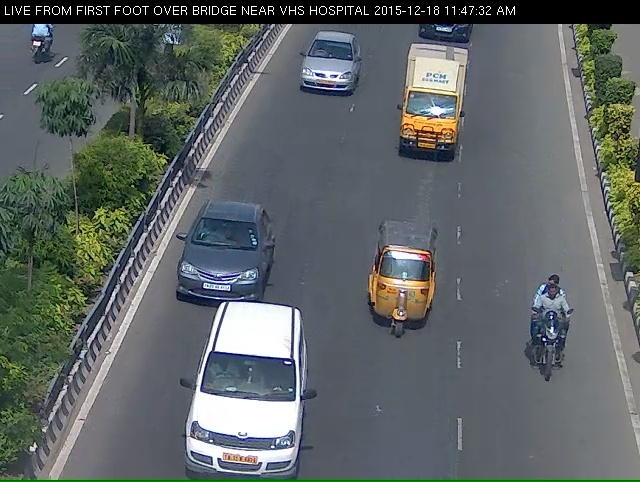Auto: (393, 48, 471, 179), (363, 231, 440, 358)
Car: (180, 335, 312, 478), (171, 205, 268, 326), (291, 35, 361, 112)
Person: (514, 280, 582, 416)
